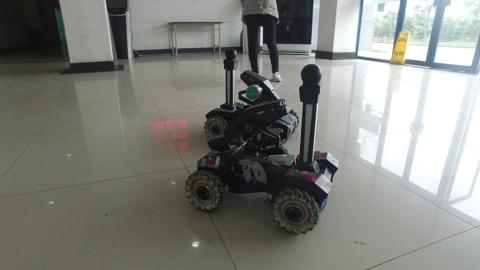chariot: (179, 63, 338, 234), (203, 49, 300, 143)
